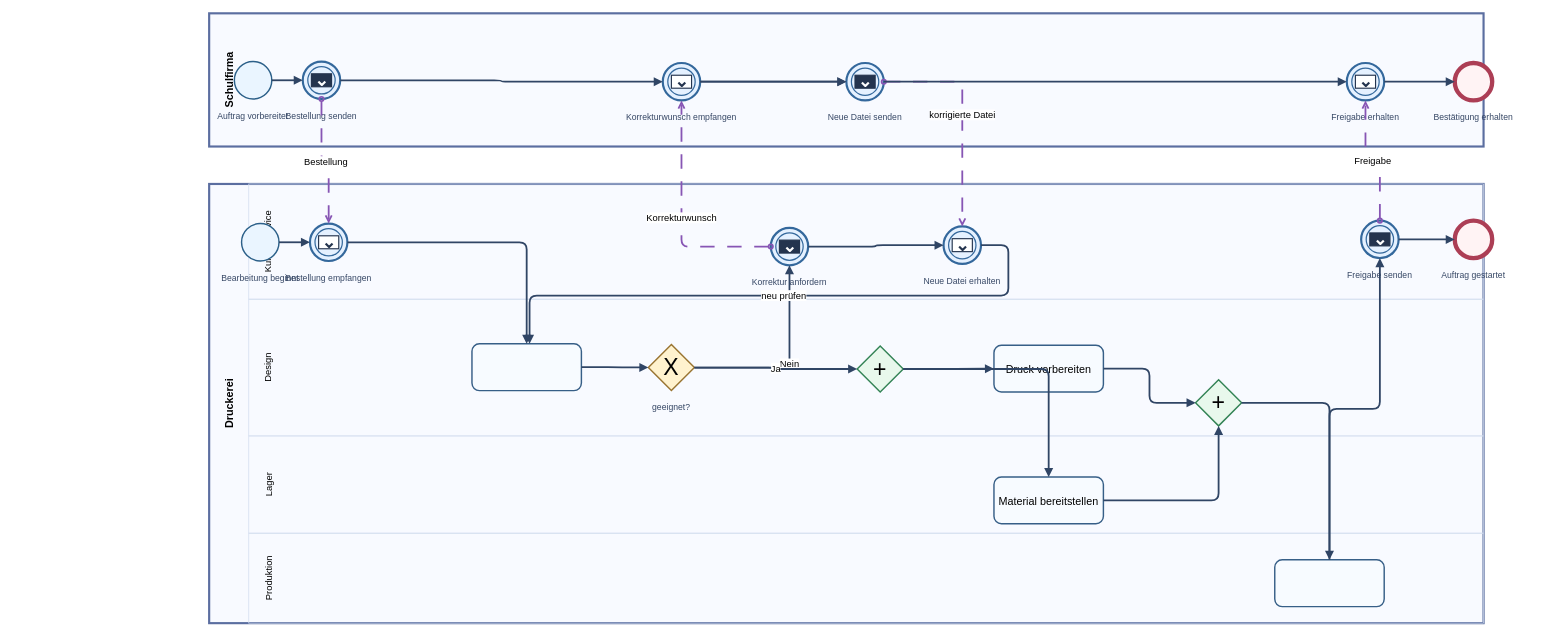
Some shapes in this 1549 by 636 pixel diagram are drawn without their labels. Here are the shapes that lost their labels. From the top down, the box of each, then its label:
(471, 343, 582, 391): Druckdatei prüfen
(1274, 559, 1385, 607): Produktion starten
